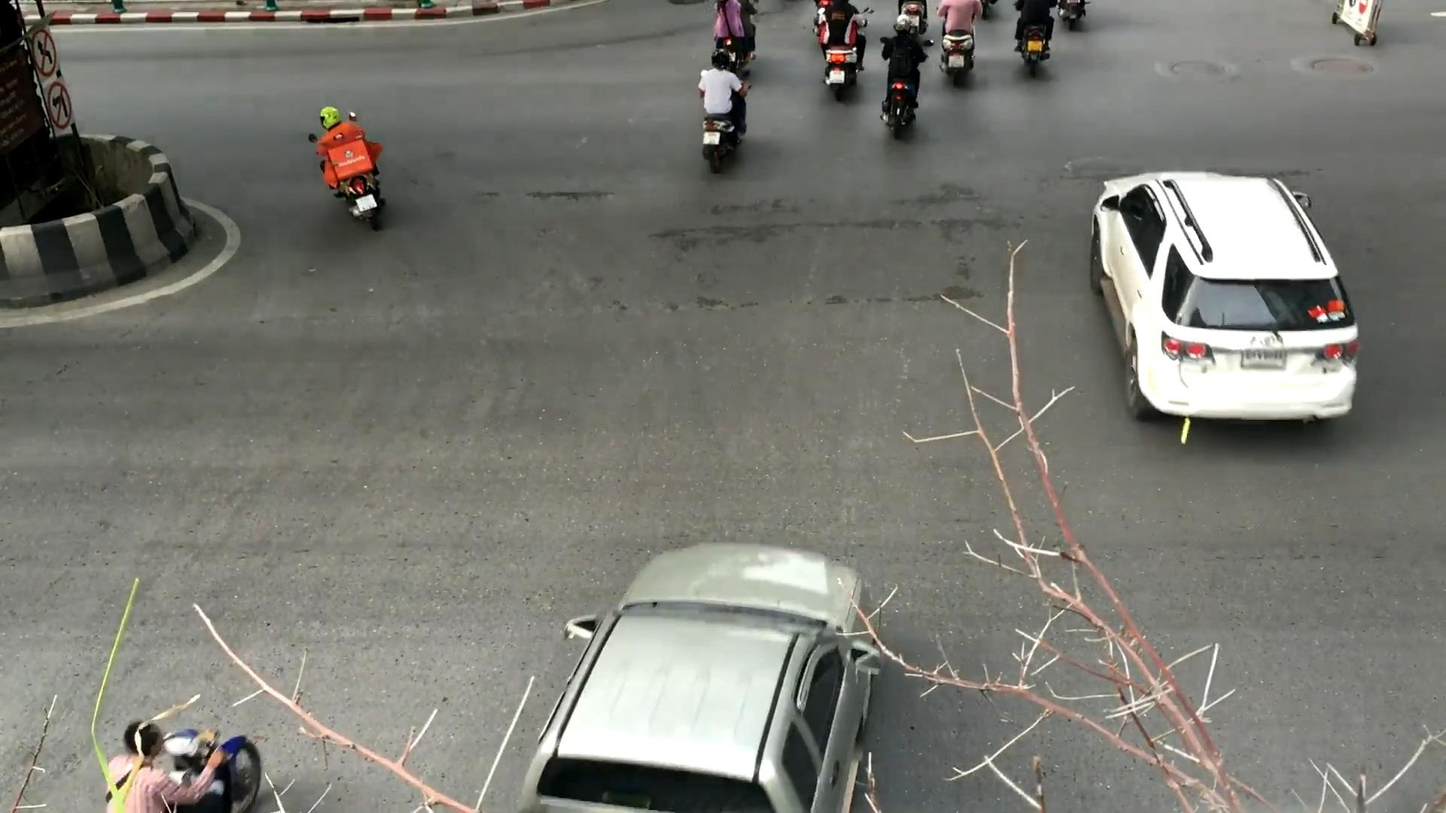driver: (308, 107, 387, 232), (698, 49, 752, 174), (880, 14, 934, 139), (817, 0, 874, 102), (935, 0, 983, 87), (1013, 0, 1059, 77)
helmet: (320, 106, 341, 131), (711, 48, 730, 71), (895, 14, 911, 36)
